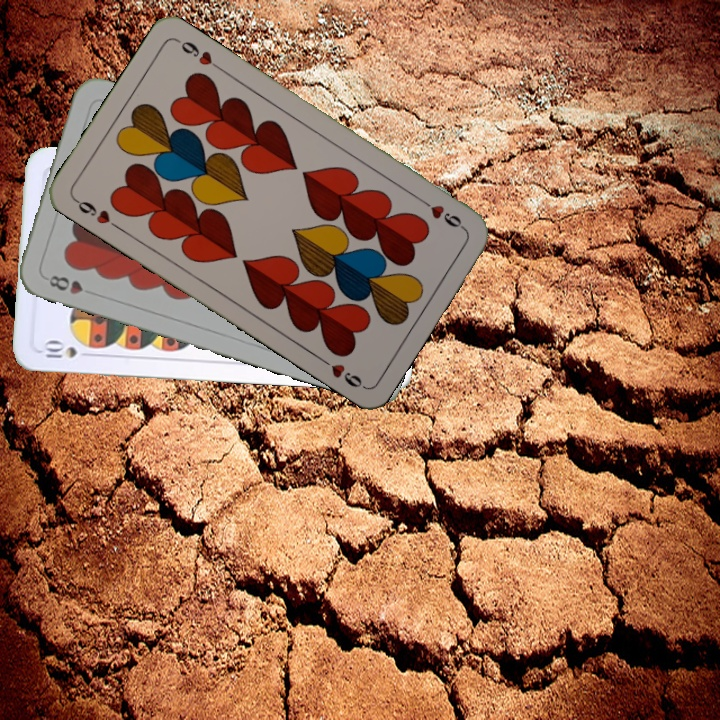H8: (44, 271, 98, 298)
H9: (415, 194, 468, 233), (70, 194, 122, 232)
S10: (39, 338, 96, 361)
